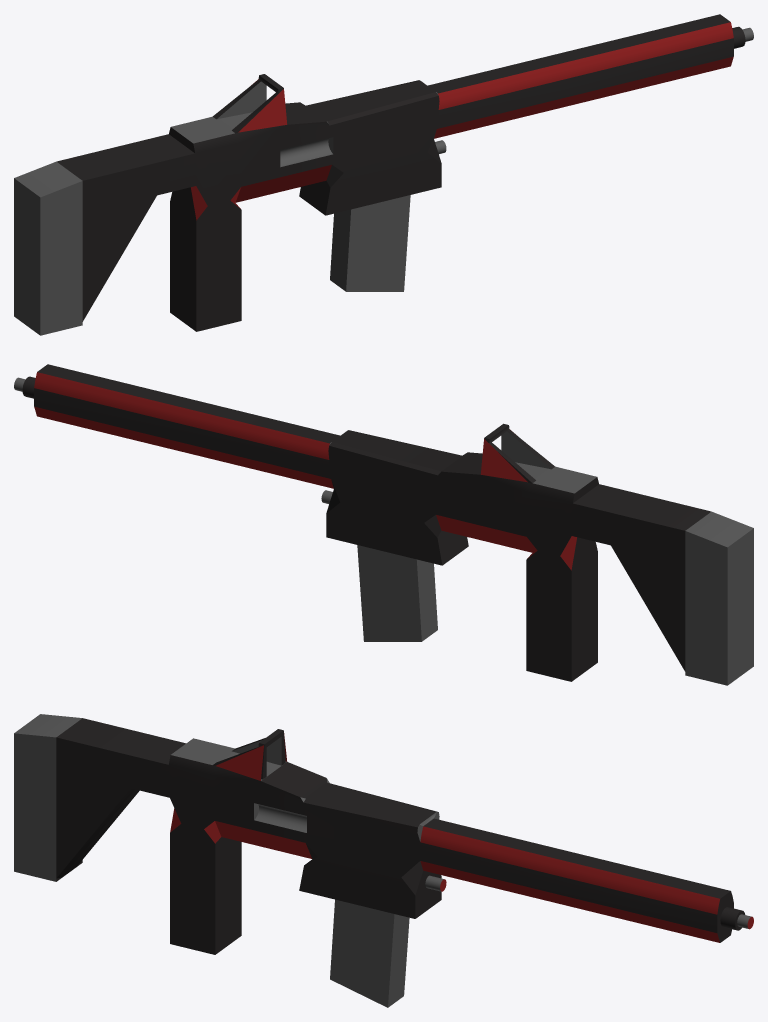
The model's file is GunAsset1.0.fbx.
3 views of the same model, one above another, from view 1: azimuth 30°, elevation 25°; view 2: azimuth 150°, elevation 25°; view 3: azimuth 330°, elevation 25° (orthographic).
Visible parts, largest first — view 1: GunBody, GunMagazine, Reticle; view 2: GunBody, GunMagazine, Reticle; view 3: GunBody, GunMagazine, Reticle.
Boxes of the visible parts, x1,y1,x2,y2 form: GunBody: (14, 14, 733, 335); GunMagazine: (330, 195, 410, 291); Reticle: (213, 74, 283, 133); GunBody: (34, 364, 753, 685); GunMagazine: (357, 545, 437, 641); Reticle: (484, 423, 554, 483); GunBody: (14, 714, 733, 954); GunMagazine: (330, 899, 409, 1007); Reticle: (213, 729, 285, 779).
Bounding box in the file's own units: 6.46 × 2.01 × 0.4085.
